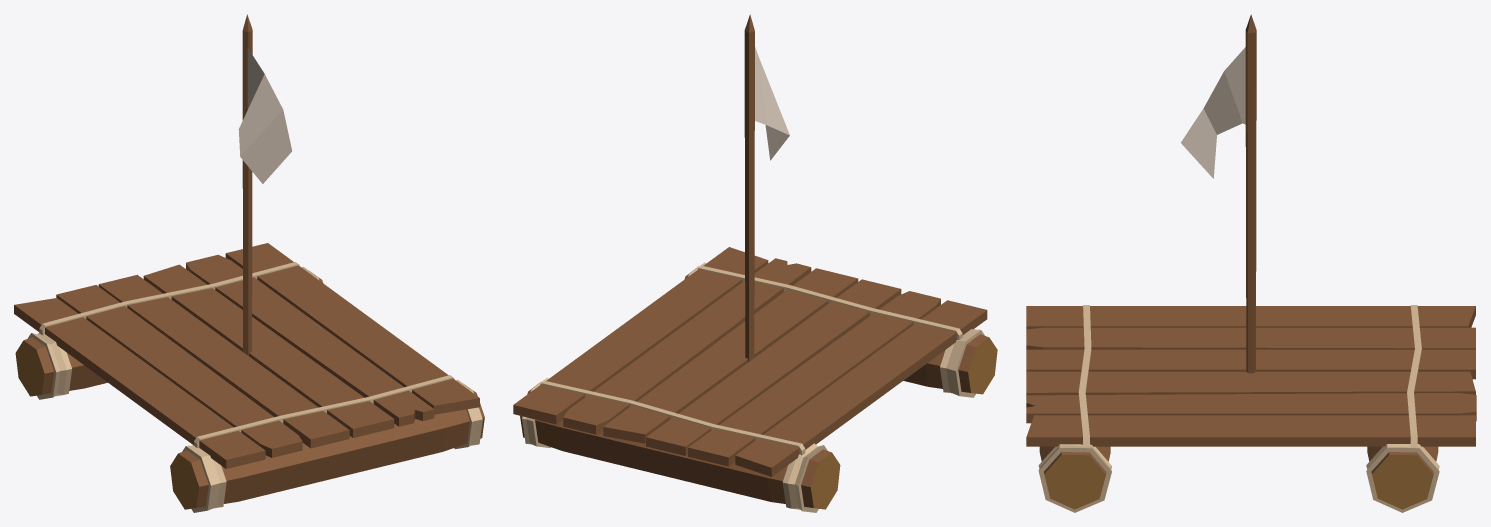
File: pirates_raft.fbx
3 views of the same model, side by side, from view 1: azimuth 30°, elevation 25°; view 2: azimuth 150°, elevation 25°; view 3: azimuth 270°, elevation 25° (orthographic). The views are drawn at different scales.
Visible parts, largest first — view 1: pirates_raft; view 2: pirates_raft; view 3: pirates_raft.
Boxes of the visible parts, bbox=[...] form: pirates_raft: bbox=[14, 14, 484, 512]; pirates_raft: bbox=[513, 14, 997, 512]; pirates_raft: bbox=[1026, 14, 1476, 512].
Bounding box in the file's own units: 147 × 199 × 190.
